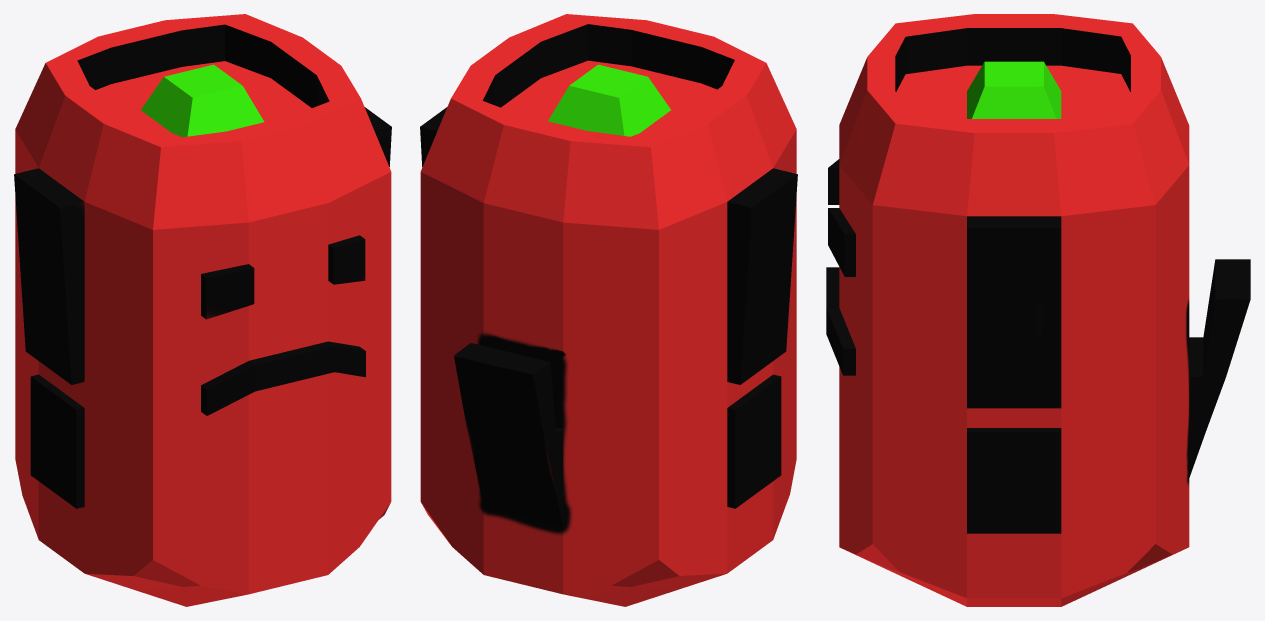
File: Final_boss.fbx
3 views of the same model, side by side, from view 1: azimuth 30°, elevation 25°; view 2: azimuth 150°, elevation 25°; view 3: azimuth 270°, elevation 25° (orthographic). The views are drawn at different scales.
Parts seen in each view (by area): view 1: Cube; view 2: Cube; view 3: Cube.
Part boxes in pixels (box(x1,y1,x2,y2)): Cube: box(14, 14, 391, 606); Cube: box(420, 14, 797, 606); Cube: box(826, 14, 1250, 606).
Size of the model in its own units: 279 by 401 by 300.
